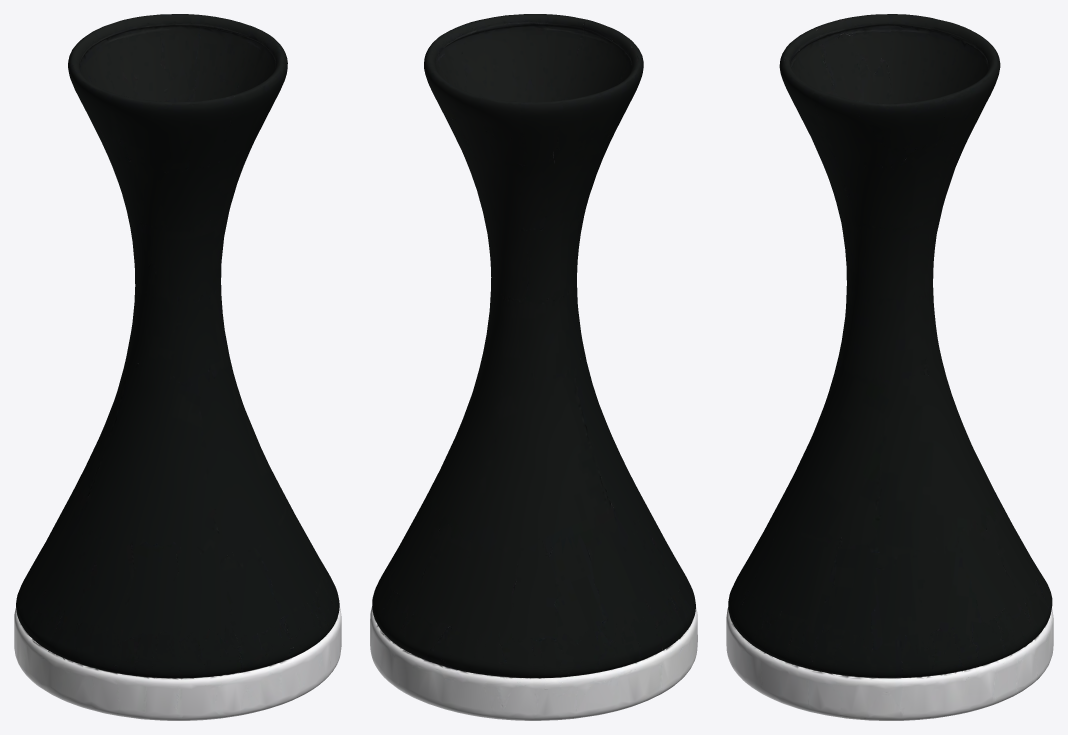
The model's file is pawn-black-hd.glb.
3 views of the same model, side by side, from view 1: azimuth 30°, elevation 25°; view 2: azimuth 150°, elevation 25°; view 3: azimuth 270°, elevation 25° (orthographic).
Size of the model in its own units: 0.547 by 1.1 by 0.547.
Materials: 1 (1 with a texture image).
